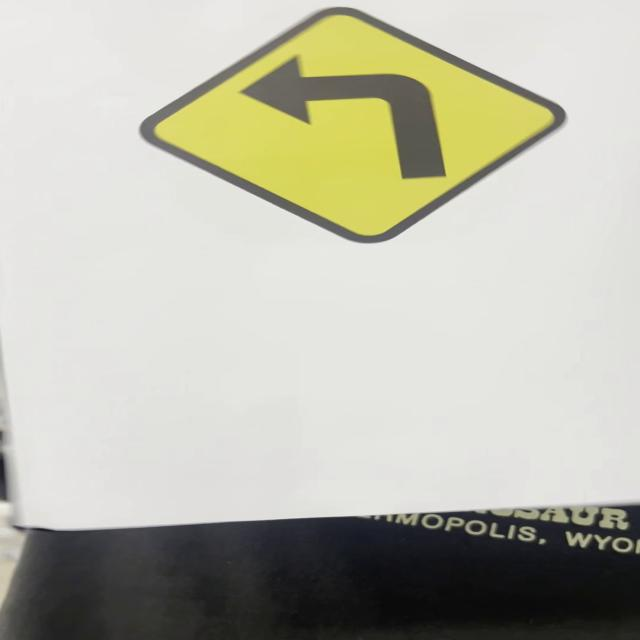left: (138, 1, 568, 248)
